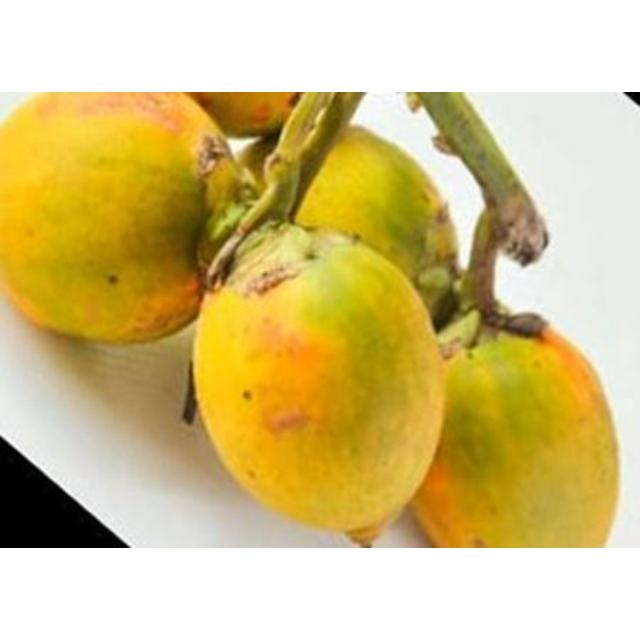good: (193, 207, 447, 547), (0, 92, 228, 347), (407, 328, 622, 547)
